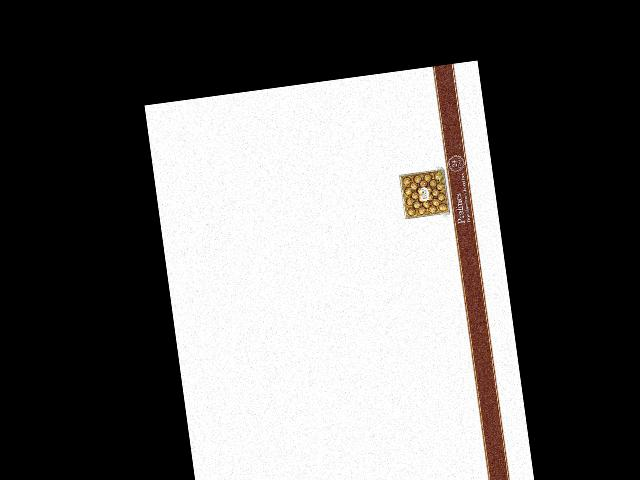chocolate: (395, 165, 452, 221)
